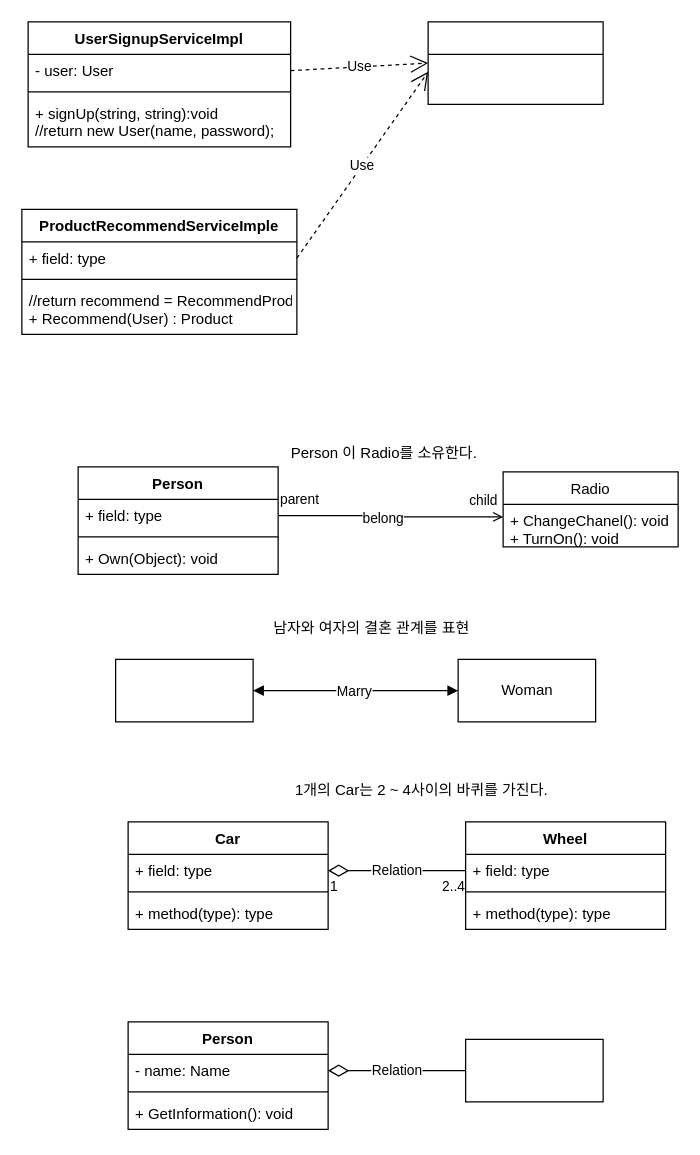
This 700x1155 diagram has some shape labels left out. Each missing label, with the centre of its shape:
Man: [183,690]
Name: [533,1070]
User: [515,62]
